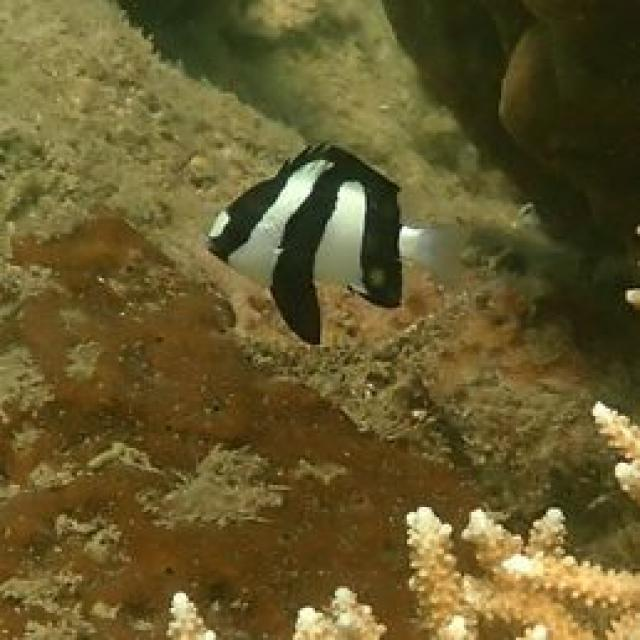Three_striped DasmselFish: (208, 136, 466, 346)
